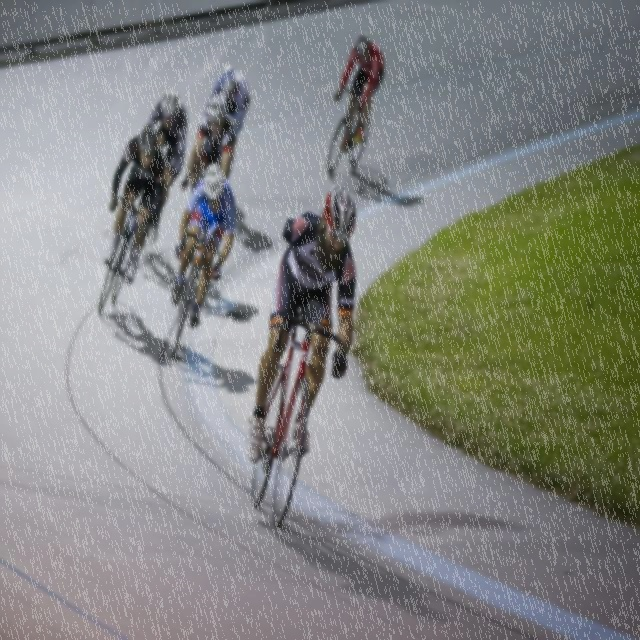pessoa: (238, 176, 362, 469), (168, 159, 238, 329), (102, 119, 168, 284), (137, 87, 190, 245), (332, 28, 386, 152), (180, 90, 238, 194), (203, 64, 250, 138)
